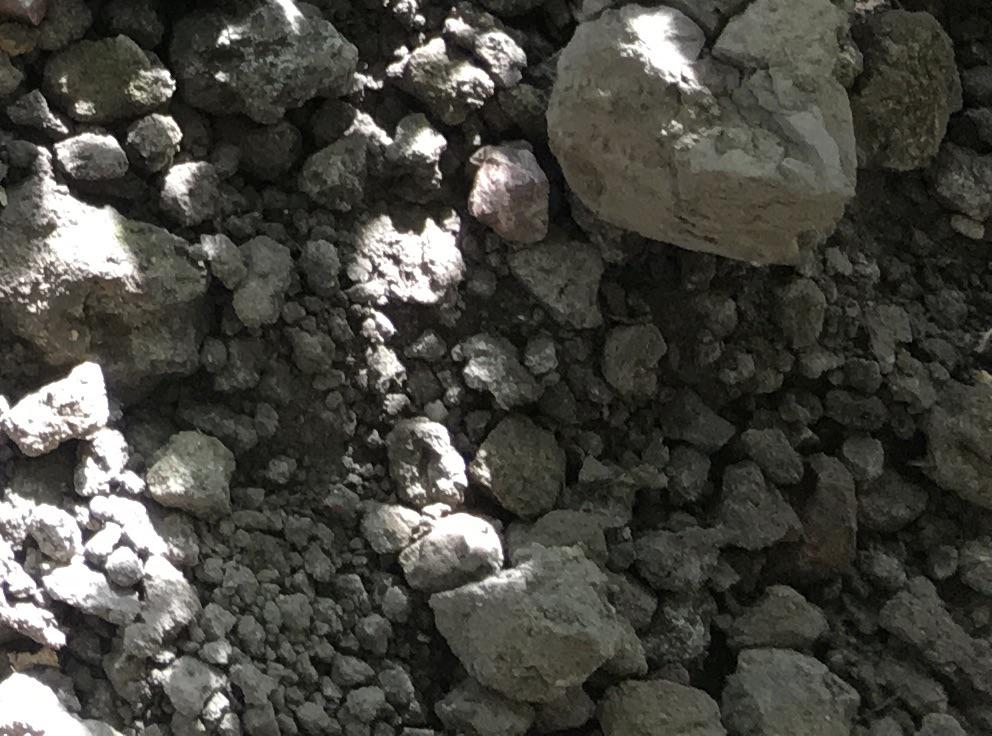block: (540, 10, 858, 269), (4, 178, 210, 409), (430, 550, 628, 704), (169, 7, 365, 124)
